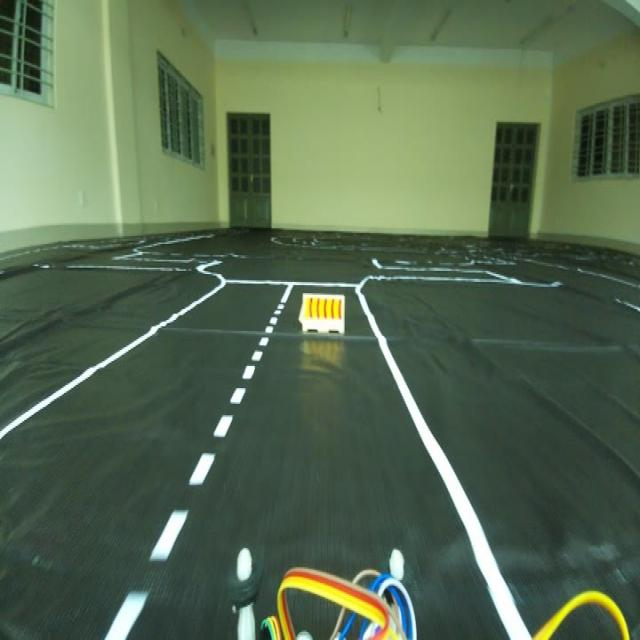roadblock: (297, 286, 348, 344)
